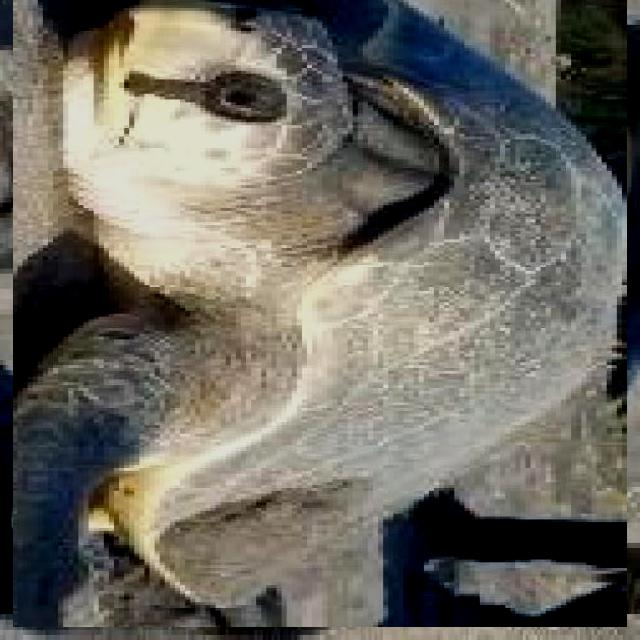Sea turtle: (6, 0, 633, 620)
